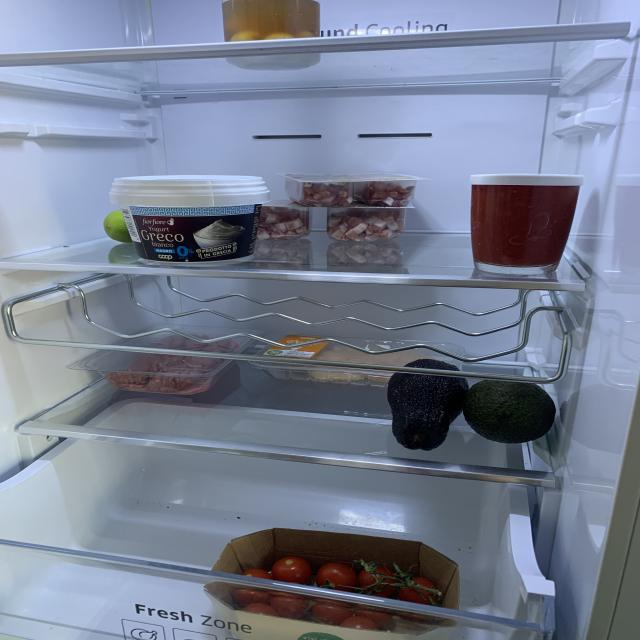avocado: (389, 356, 468, 450), (468, 379, 556, 443)
bacon: (322, 209, 402, 243), (286, 177, 352, 206), (354, 182, 416, 206), (260, 208, 309, 238)
cherry_tomato: (237, 551, 438, 627)
chicken_breast: (292, 351, 415, 389)
ground_beef: (120, 341, 230, 394)
lime: (102, 214, 133, 246)
olives: (224, 0, 321, 60)
tomato_sauce: (471, 185, 580, 270)
yoghurt: (110, 175, 267, 265)
